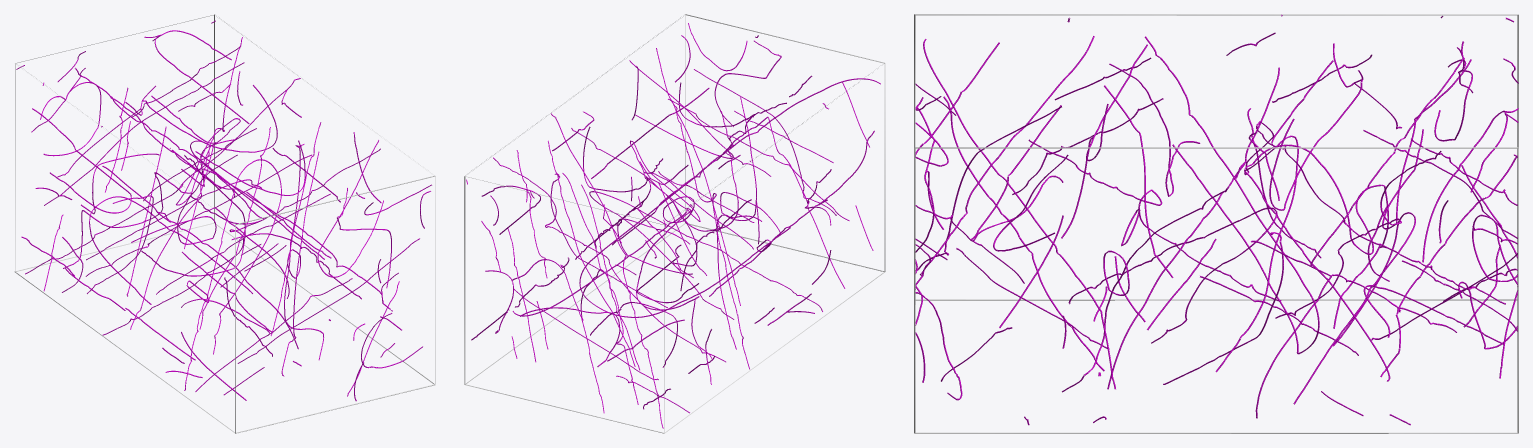
3 renders of one model, left to right at view 1: azimuth 30°, elevation 25°; view 2: azimuth 150°, elevation 25°; view 3: azimuth 270°, elevation 25°, orthographic. The views are drawn at different scales.
Visible parts, largest first — view 1: Shape_IndexedLineSet.001, Shape_IndexedLineSet; view 2: Shape_IndexedLineSet.001, Shape_IndexedLineSet; view 3: Shape_IndexedLineSet.001, Shape_IndexedLineSet.
Part boxes in pixels (x1,y1,x2,y2): Shape_IndexedLineSet.001: (16,20,431,401); Shape_IndexedLineSet: (14,14,435,433); Shape_IndexedLineSet.001: (466,23,880,428); Shape_IndexedLineSet: (464,14,885,433); Shape_IndexedLineSet.001: (915,14,1518,425); Shape_IndexedLineSet: (914,14,1518,433).
Bounding box in the file's own units: 237 × 237 × 453.
